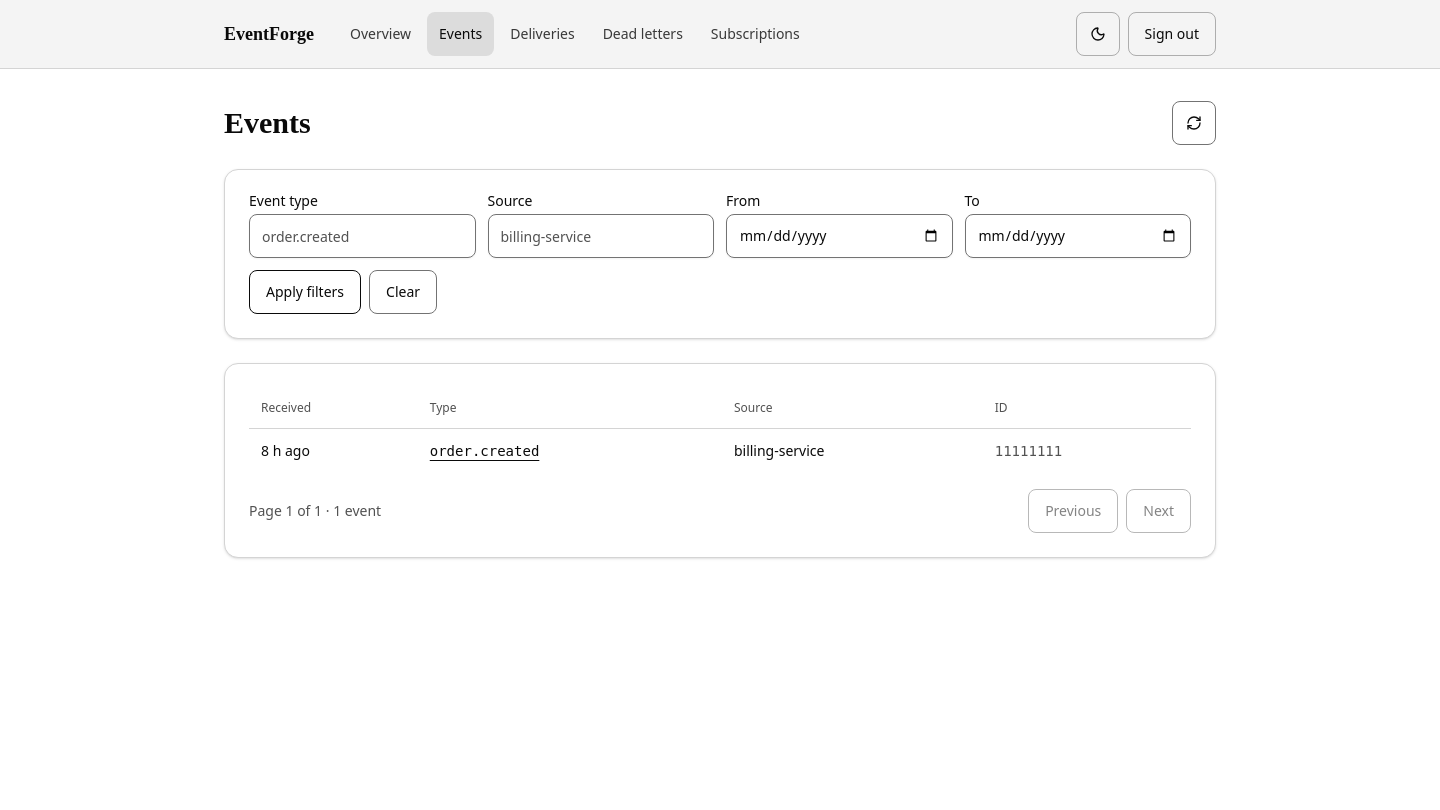
it: Events list › keeps the table on screen when a refresh fails
The image size is (1440, 810).
expect the link "order.created" is shown: met, box [430,442,539,458]
Click the button named "Refresh": (1194, 123) [1172,101,1216,145]
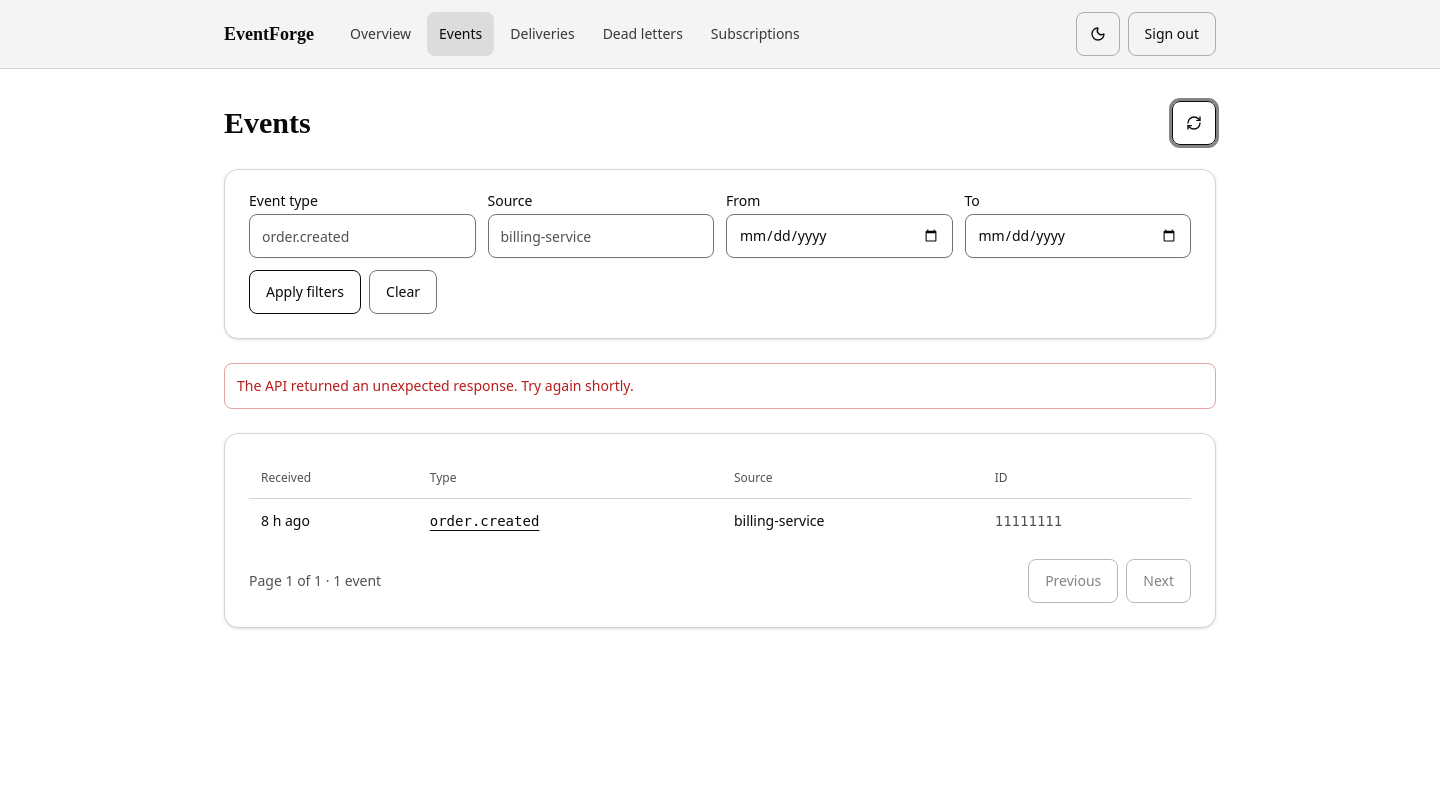
expect the link "order.created" is shown: met, box [430,512,539,528]
expect the message "The API returned an unexpected response. Try again shortly." is shown: met, box [224,363,1216,409]
